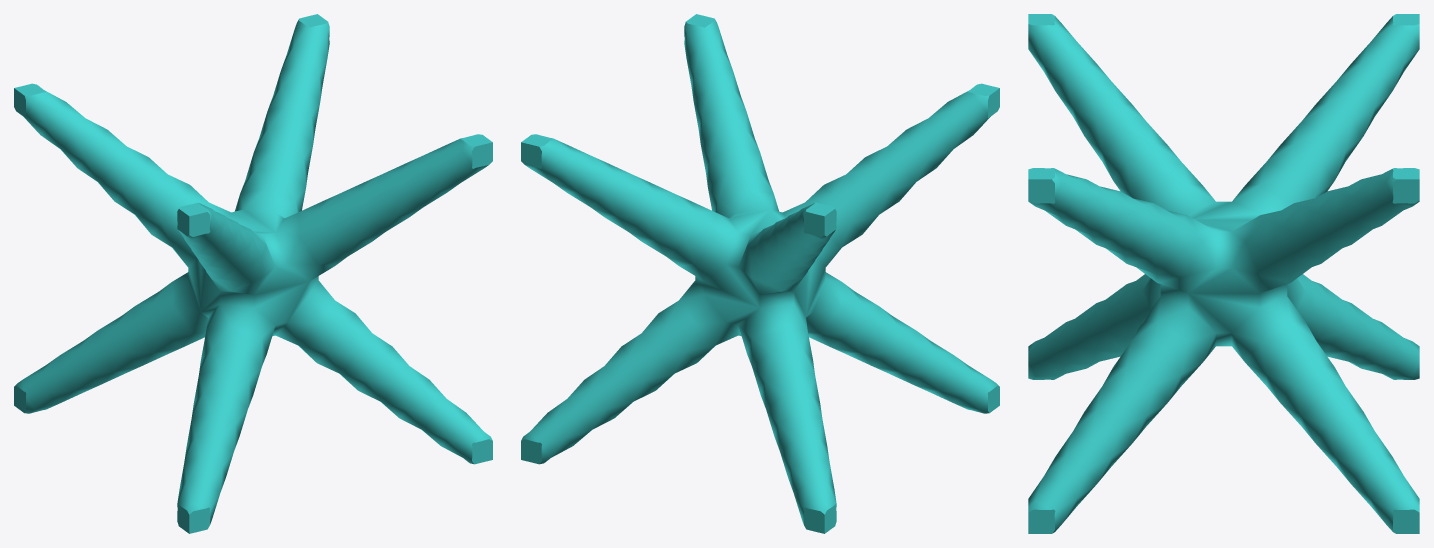
Rendered from Variation2.glb.
3 views of the same model, side by side, from view 1: azimuth 30°, elevation 25°; view 2: azimuth 150°, elevation 25°; view 3: azimuth 270°, elevation 25° (orthographic). The views are drawn at different scales.
Visible parts, largest first — view 1: Mesh_0.001; view 2: Mesh_0.001; view 3: Mesh_0.001.
Part boxes in pixels (x1,y1,x2,y2): Mesh_0.001: [14, 14, 492, 533]; Mesh_0.001: [521, 14, 999, 533]; Mesh_0.001: [1028, 14, 1419, 533].
Bounding box in the file's own units: 1 × 1 × 1.
